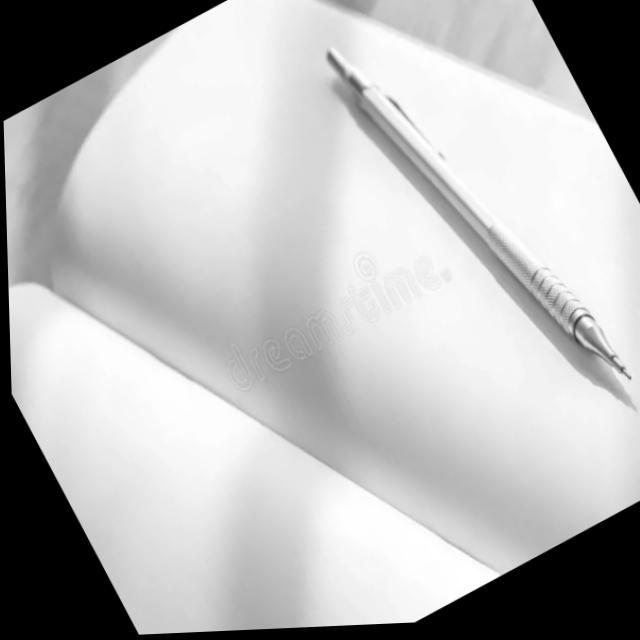pencil: (314, 41, 640, 394)
